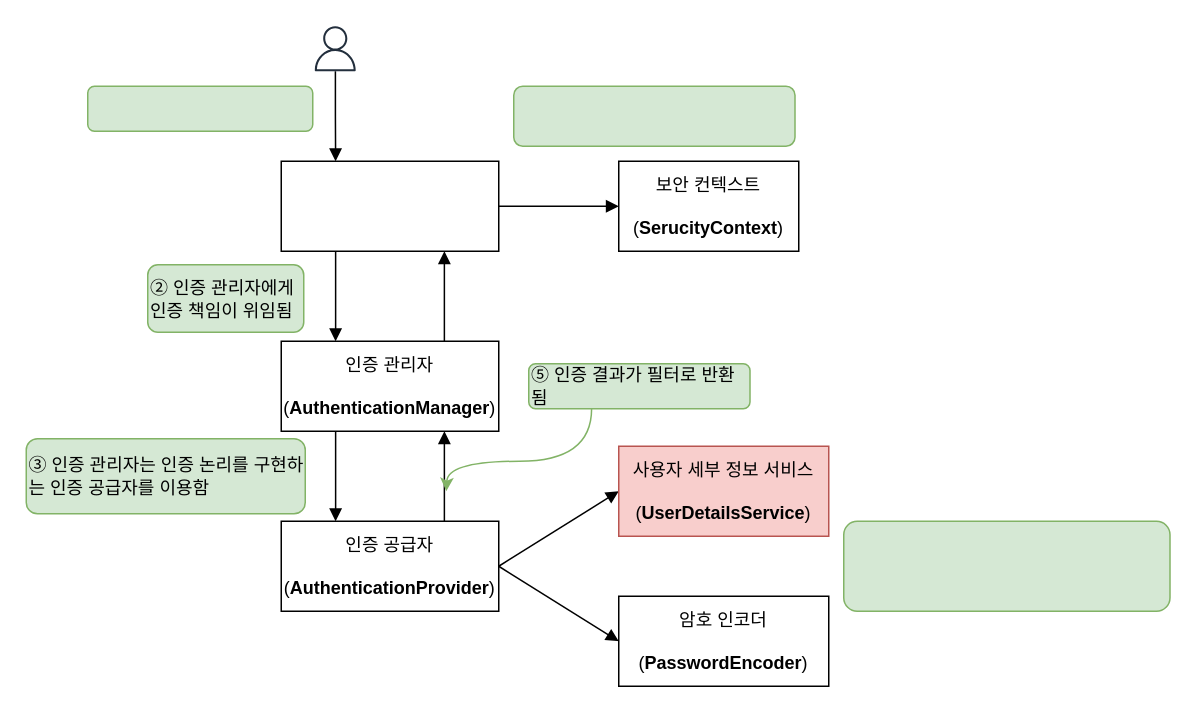
This 1197x713 diagram has some shape labels left out. The centre of each missing label's shape, as x and y in pixels:
"① 인증 필터가 요청을 가로챔" goes at point (199, 108).
"④ 인증 공급자는 사용자 세부 정보 서비스로 사용자를 찾고, 암호 인코더로 암호를 검증함" goes at point (1006, 565).
"⑥ 인증된 엔티티에 관한 세부 정보가 보안 컨텍스트에 저장됨" goes at point (653, 115).
"인증 필터 ( AuthenticationFilter )" goes at point (389, 205).
